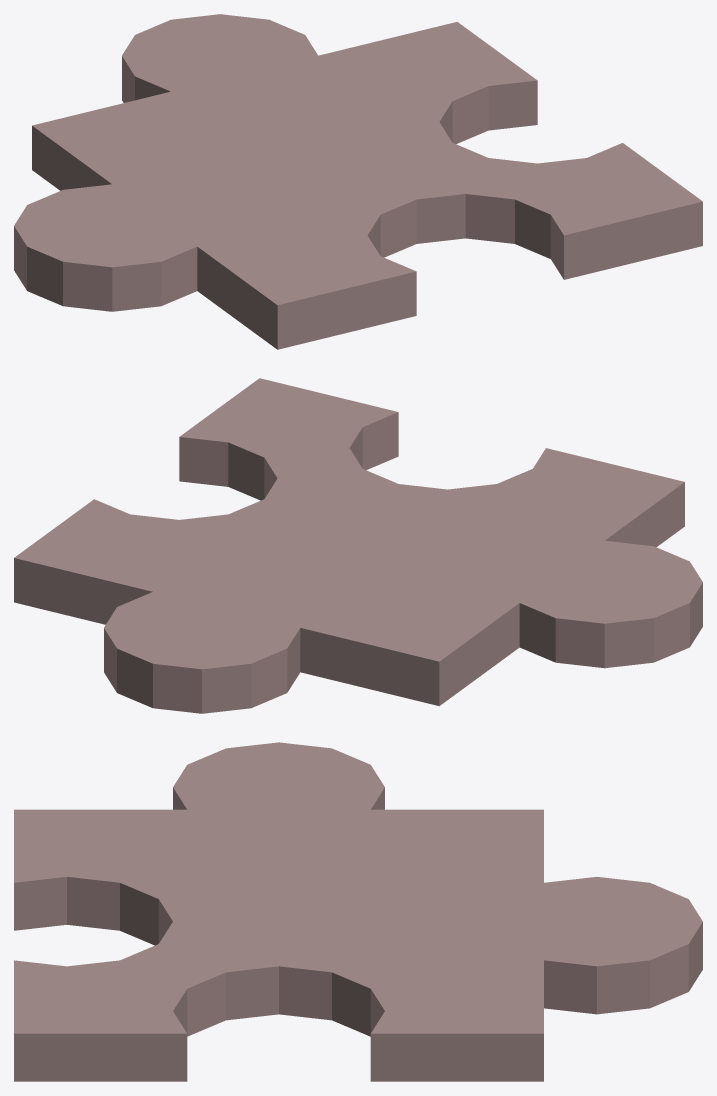
File: Puzzle_05_MOD.fbx
The picture shows the model from 3 angles, top to bottom: view 1: azimuth 30°, elevation 25°; view 2: azimuth 150°, elevation 25°; view 3: azimuth 270°, elevation 25°; orthographic projection. The views are drawn at different scales.
Parts seen in each view (by area): view 1: polySurface48; view 2: polySurface48; view 3: polySurface48.
Part boxes in pixels (<box>): polySurface48: <box>14,14,702,349</box>; polySurface48: <box>14,378,702,713</box>; polySurface48: <box>14,742,702,1081</box>.
Bounding box in the file's own units: 6.5 × 0.5 × 6.5.
